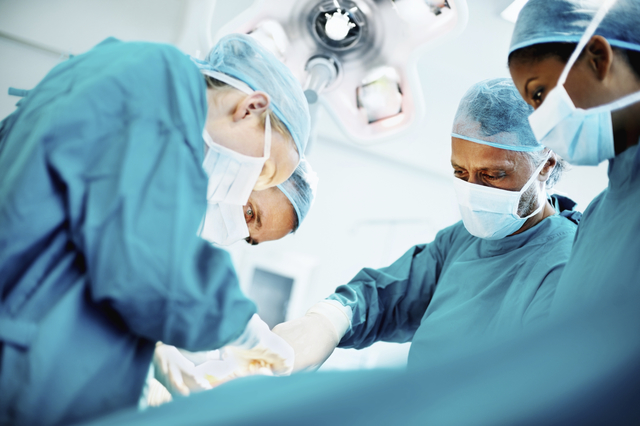mask: (526, 87, 617, 166), (454, 174, 532, 238), (203, 140, 265, 209)
